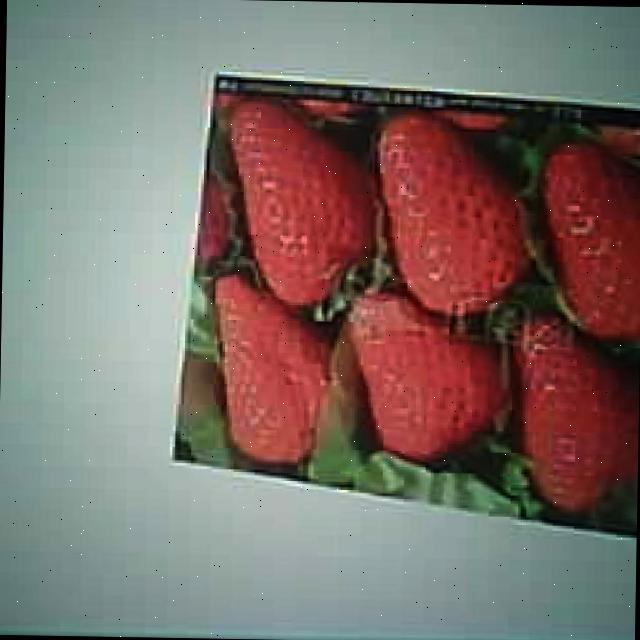strawberry: (376, 110, 534, 315), (224, 94, 375, 308), (350, 294, 507, 464), (508, 317, 640, 510), (210, 274, 338, 462), (538, 139, 640, 346)
